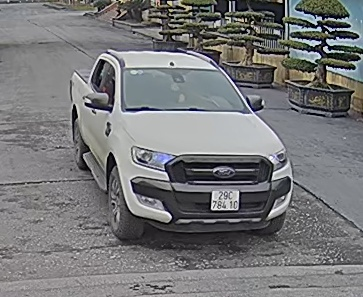vehicle plate: (210, 187, 237, 210)
